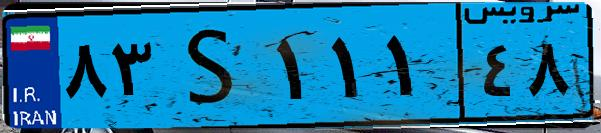1: (270, 28, 330, 110), (385, 28, 445, 110), (330, 28, 385, 110)
3: (110, 28, 158, 98)
4: (475, 38, 525, 113)
8: (57, 26, 110, 100), (525, 38, 570, 115)
S: (158, 12, 270, 120)
